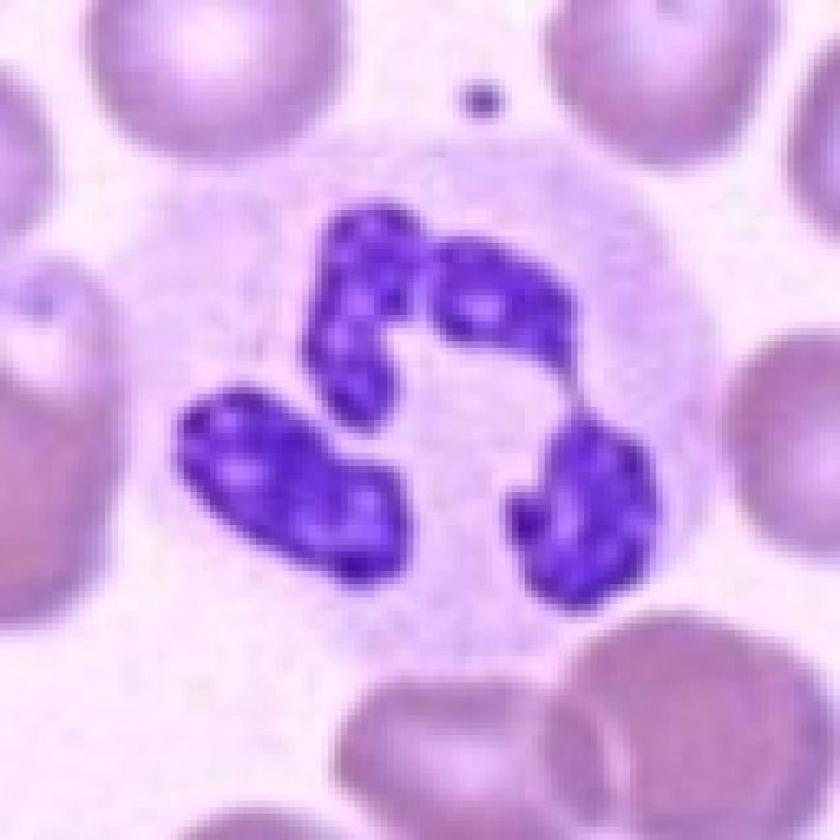neutrophil: (82, 122, 777, 701)
